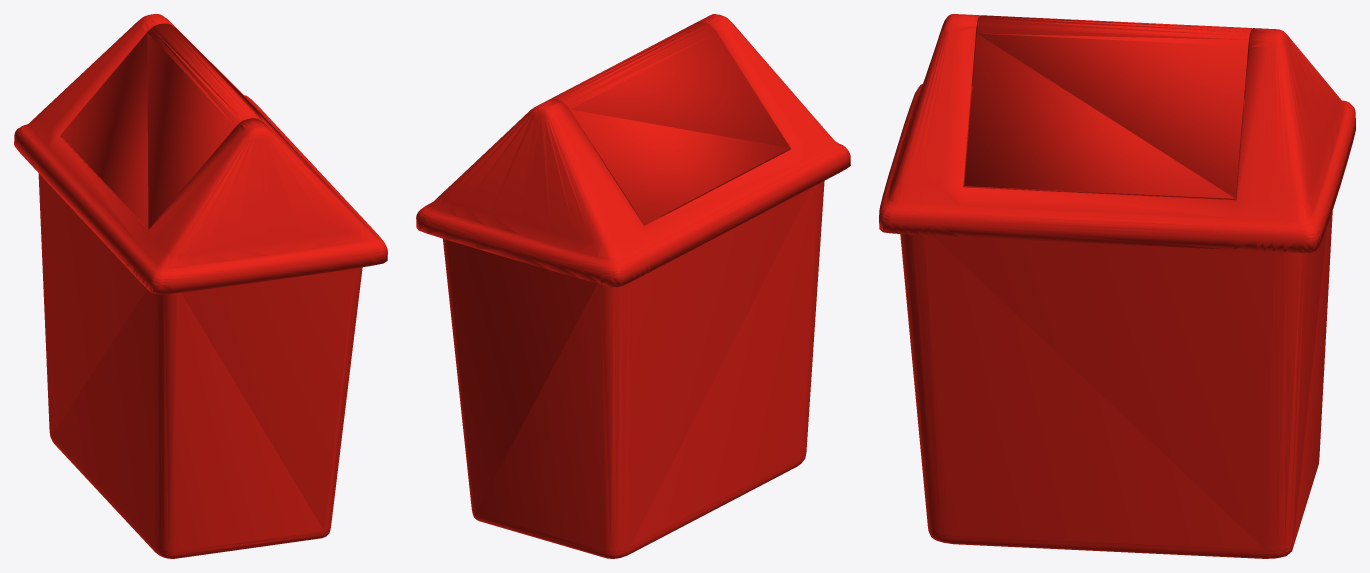
The model's file is basura.fbx.
The picture shows the model from 3 angles, left to right: view 1: azimuth 30°, elevation 25°; view 2: azimuth 150°, elevation 25°; view 3: azimuth 270°, elevation 25°; orthographic projection. The views are drawn at different scales.
Visible parts, largest first — view 1: 10896_Trash_can_v3_LOD3; view 2: 10896_Trash_can_v3_LOD3; view 3: 10896_Trash_can_v3_LOD3.
Part boxes in pixels (bbox=[...]): 10896_Trash_can_v3_LOD3: bbox=[14, 14, 387, 558]; 10896_Trash_can_v3_LOD3: bbox=[416, 14, 850, 558]; 10896_Trash_can_v3_LOD3: bbox=[879, 14, 1355, 558].
Bounding box in the file's own units: 13.28 × 20.53 × 17.91.
